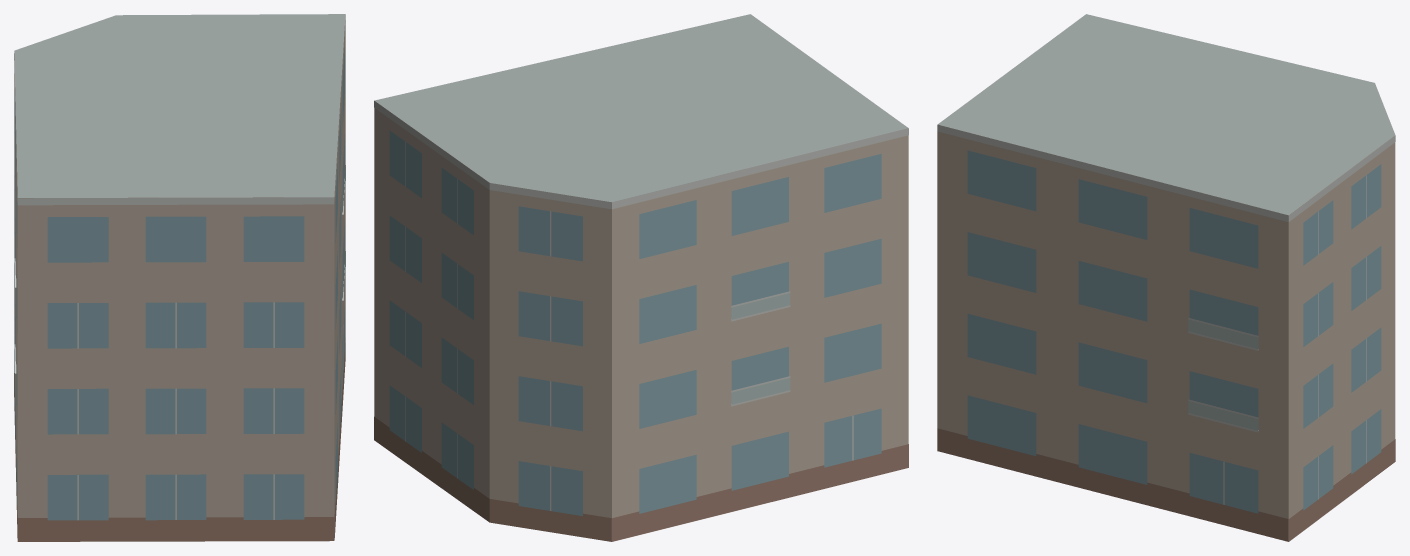
File: survey-upis-32778356.glb
The picture shows the model from 3 angles, left to right: view 1: azimuth 30°, elevation 25°; view 2: azimuth 150°, elevation 25°; view 3: azimuth 270°, elevation 25°; orthographic projection. The views are drawn at different scales.
Parts seen in each view (by area): view 1: survey-upis-32778356.tmp; view 2: survey-upis-32778356.tmp; view 3: survey-upis-32778356.tmp.
Boxes of the visible parts, x1=… form: survey-upis-32778356.tmp: x1=14, y1=14, x2=345, y2=541; survey-upis-32778356.tmp: x1=374, y1=14, x2=908, y2=541; survey-upis-32778356.tmp: x1=937, y1=14, x2=1395, y2=541.
Size of the model in its own units: 15.48 by 11.7 by 14.88.
